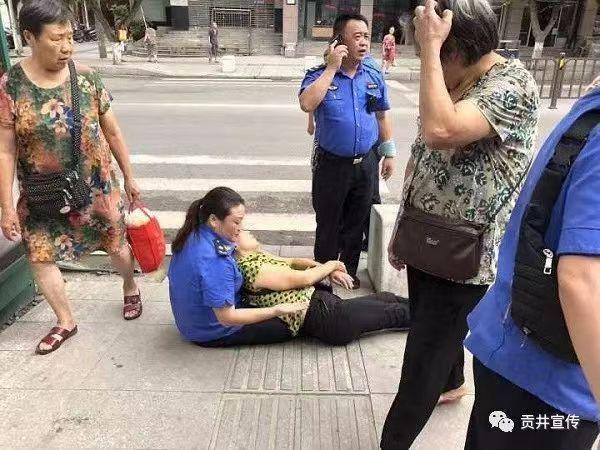bending: (158, 185, 261, 351)
down: (236, 231, 418, 344)
up: (386, 1, 535, 449), (1, 1, 152, 351), (300, 9, 388, 287)
